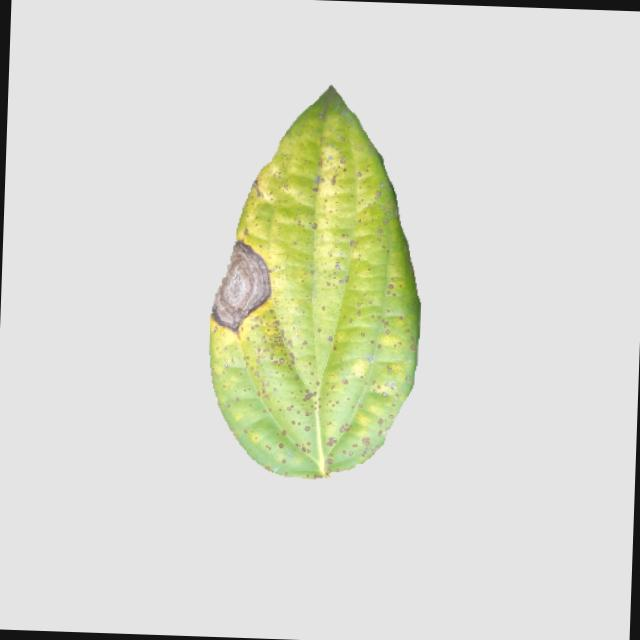leaf-blight: (196, 81, 441, 478)
